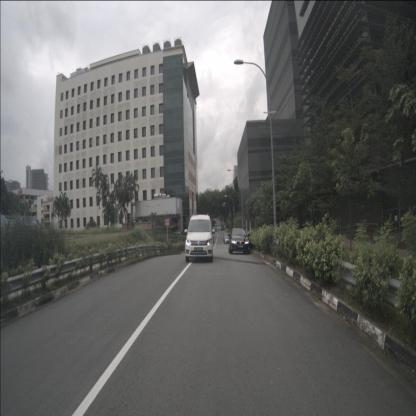vehicle-car: (184, 214, 214, 263), (228, 227, 250, 255), (224, 235, 230, 244), (223, 232, 228, 242)
